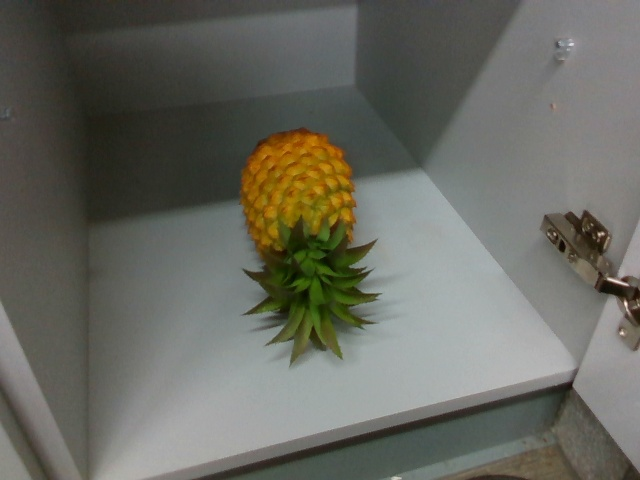pineapple: (236, 123, 377, 374)
